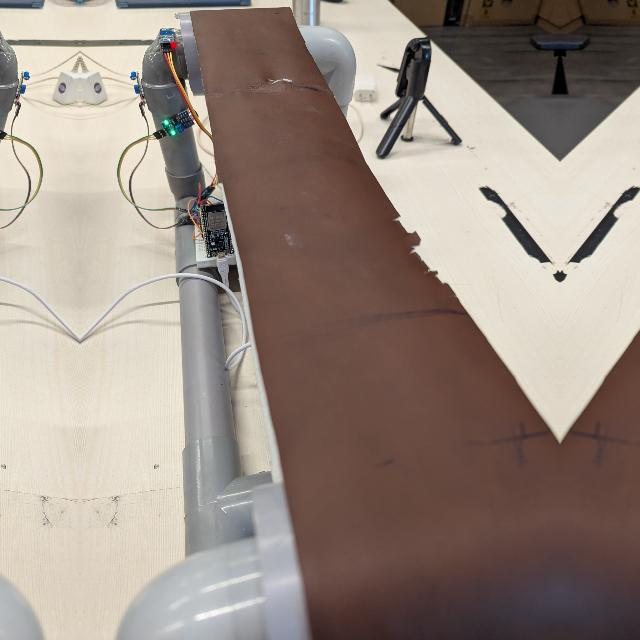edge_damage: (390, 201, 459, 301)
joint_damage: (255, 71, 306, 94)
